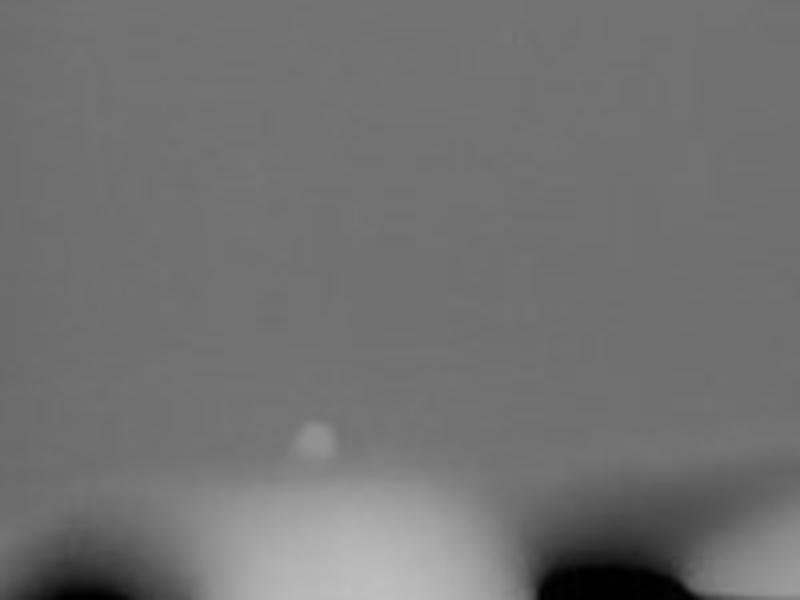defect: (23, 559, 182, 600), (533, 559, 690, 600)
